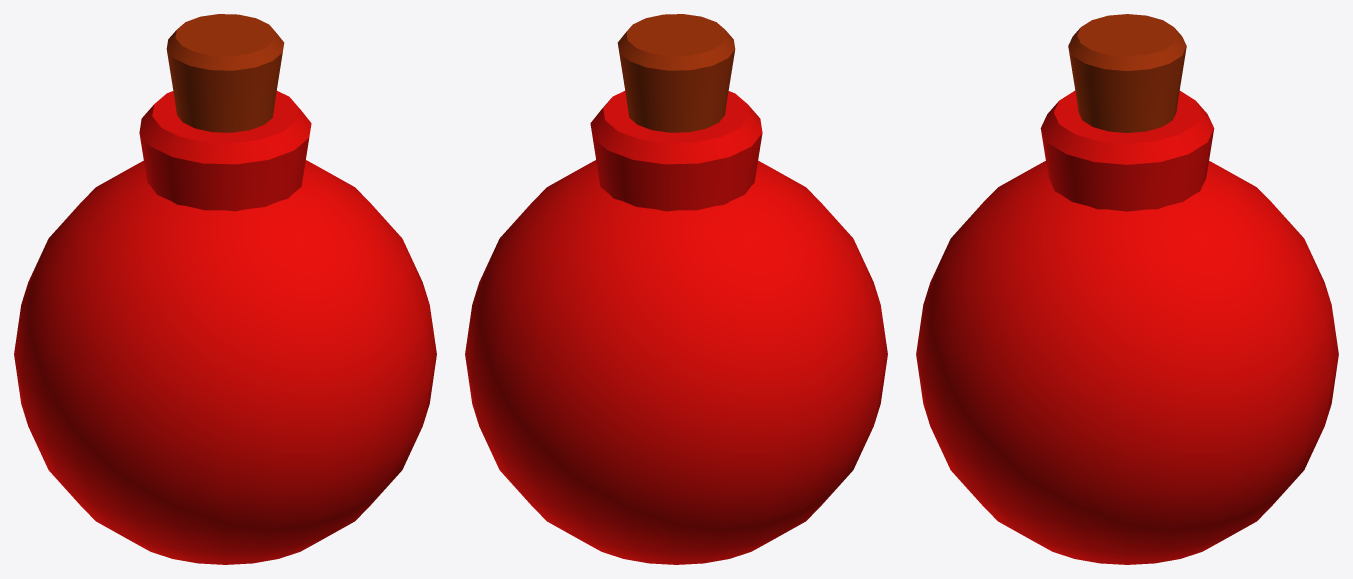
The model's file is GR_Rondflesje.fbx.
3 renders of one model, left to right at view 1: azimuth 30°, elevation 25°; view 2: azimuth 150°, elevation 25°; view 3: azimuth 270°, elevation 25°, orthographic.
Visible parts, largest first — view 1: kurk_1; view 2: kurk_1; view 3: kurk_1.
Boxes of the visible parts, left/top/right/bottom form: kurk_1: left=14, top=14, right=436, bottom=564; kurk_1: left=465, top=14, right=887, bottom=564; kurk_1: left=916, top=14, right=1338, bottom=564.
Size of the model in its own units: 16.82 by 22.41 by 16.82.
